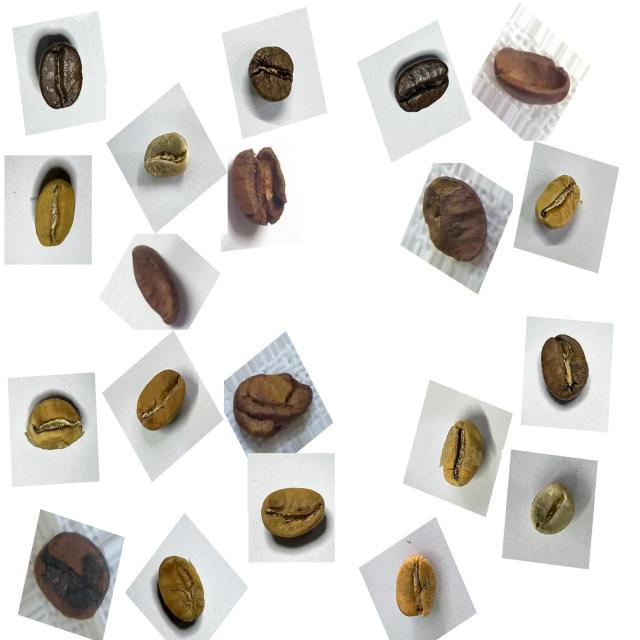bad: (24, 518, 120, 635), (228, 358, 320, 458), (411, 165, 495, 273), (491, 36, 577, 120), (226, 139, 297, 238), (124, 237, 192, 334)
dark: (26, 35, 100, 123), (384, 42, 458, 125)
green: (514, 464, 586, 553), (135, 117, 200, 194)
light: (252, 469, 333, 558), (425, 402, 498, 498), (149, 542, 221, 638), (21, 163, 91, 261), (18, 378, 93, 468), (124, 359, 194, 446), (383, 542, 448, 629), (529, 165, 593, 247)
medium: (528, 323, 604, 415), (240, 36, 307, 114)
